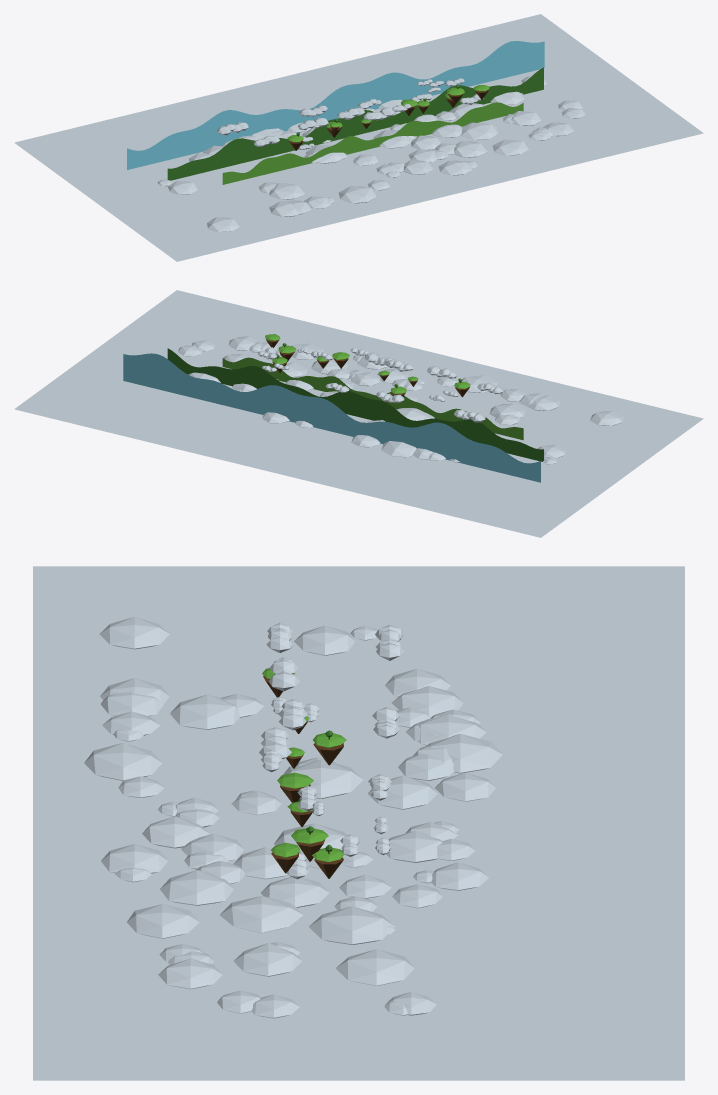
The model's file is backdrop-0.glb.
3 views of the same model, one above another, from view 1: azimuth 30°, elevation 25°; view 2: azimuth 150°, elevation 25°; view 3: azimuth 270°, elevation 25° (orthographic). The views are drawn at different scales.
Visible parts, largest first — view 1: Model; view 2: Model; view 3: Model.
Part boxes in pixels (x1,y1,x2,y2): Model: (14,14,703,261); Model: (14,290,703,537); Model: (33,566,684,1080).
Size of the model in its own units: 280 by 26.85 by 150.
1 material, 1 textured.
